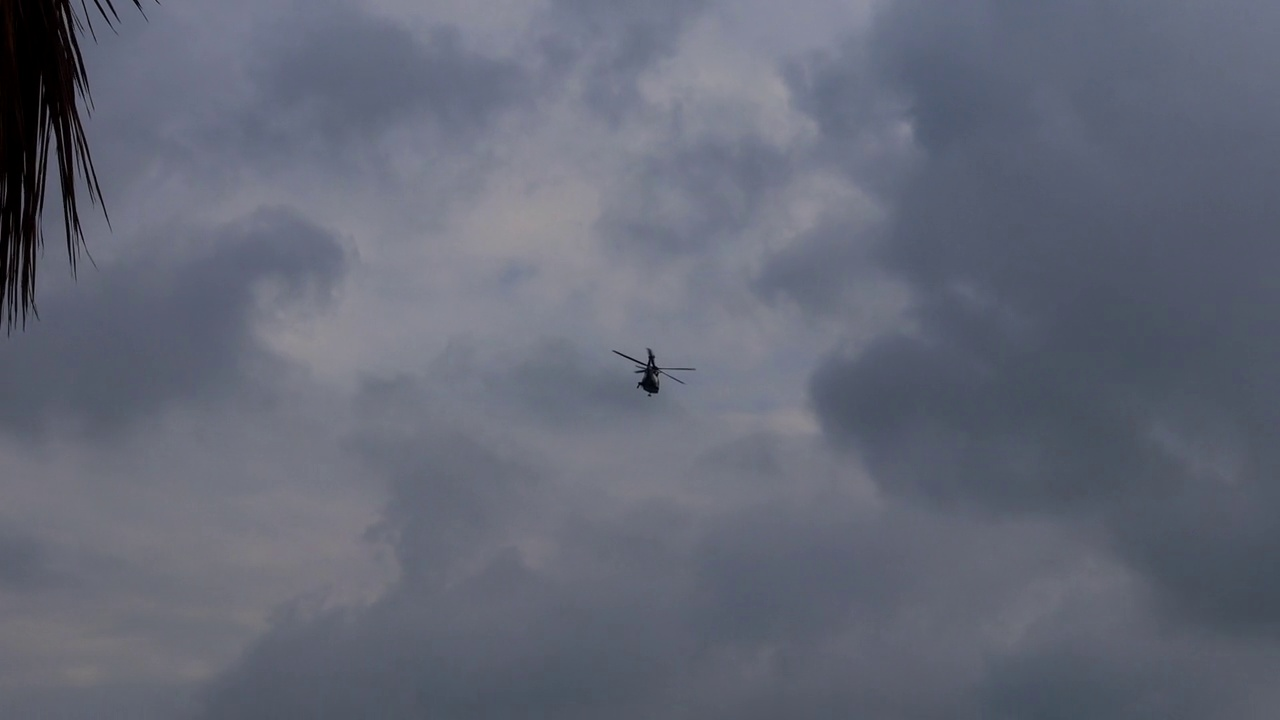heli: (612, 345, 696, 397)
